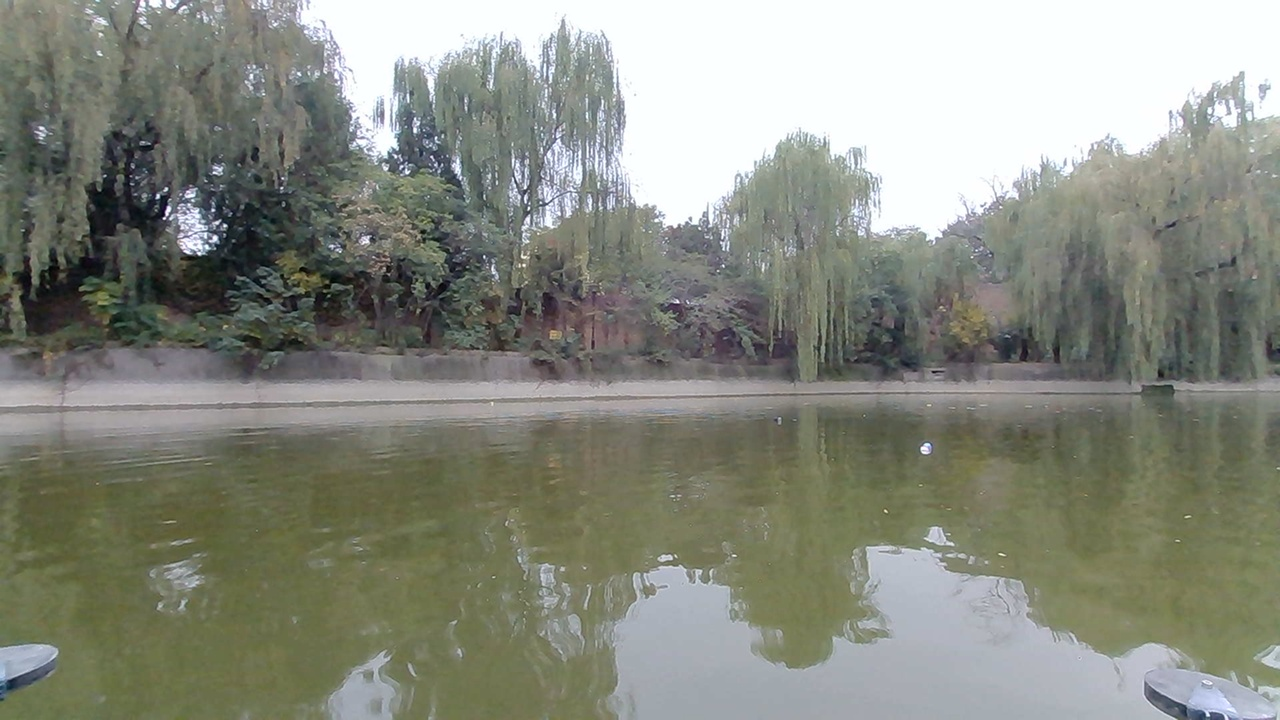bottle: (903, 429, 942, 458), (763, 405, 791, 431)
